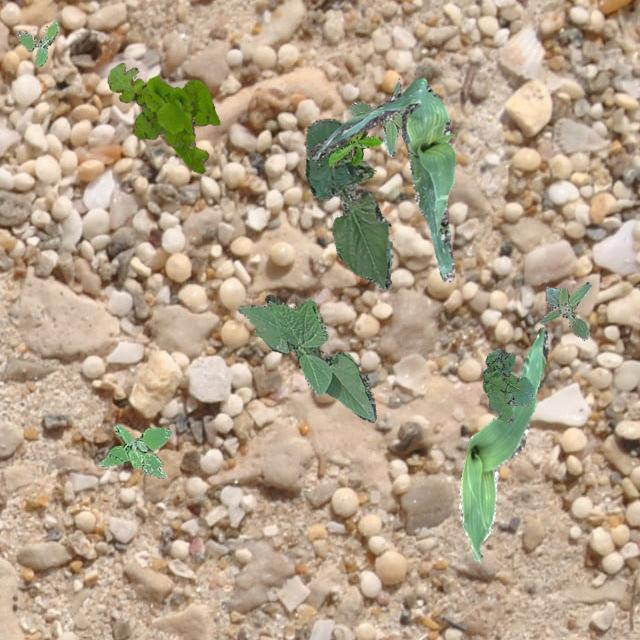crop: (308, 76, 454, 282), (458, 327, 548, 560), (238, 294, 376, 422), (304, 118, 392, 288)
weed: (106, 62, 218, 172), (348, 81, 404, 156), (98, 423, 170, 478), (482, 348, 534, 422), (538, 280, 590, 338), (326, 128, 382, 164), (15, 20, 58, 64)
